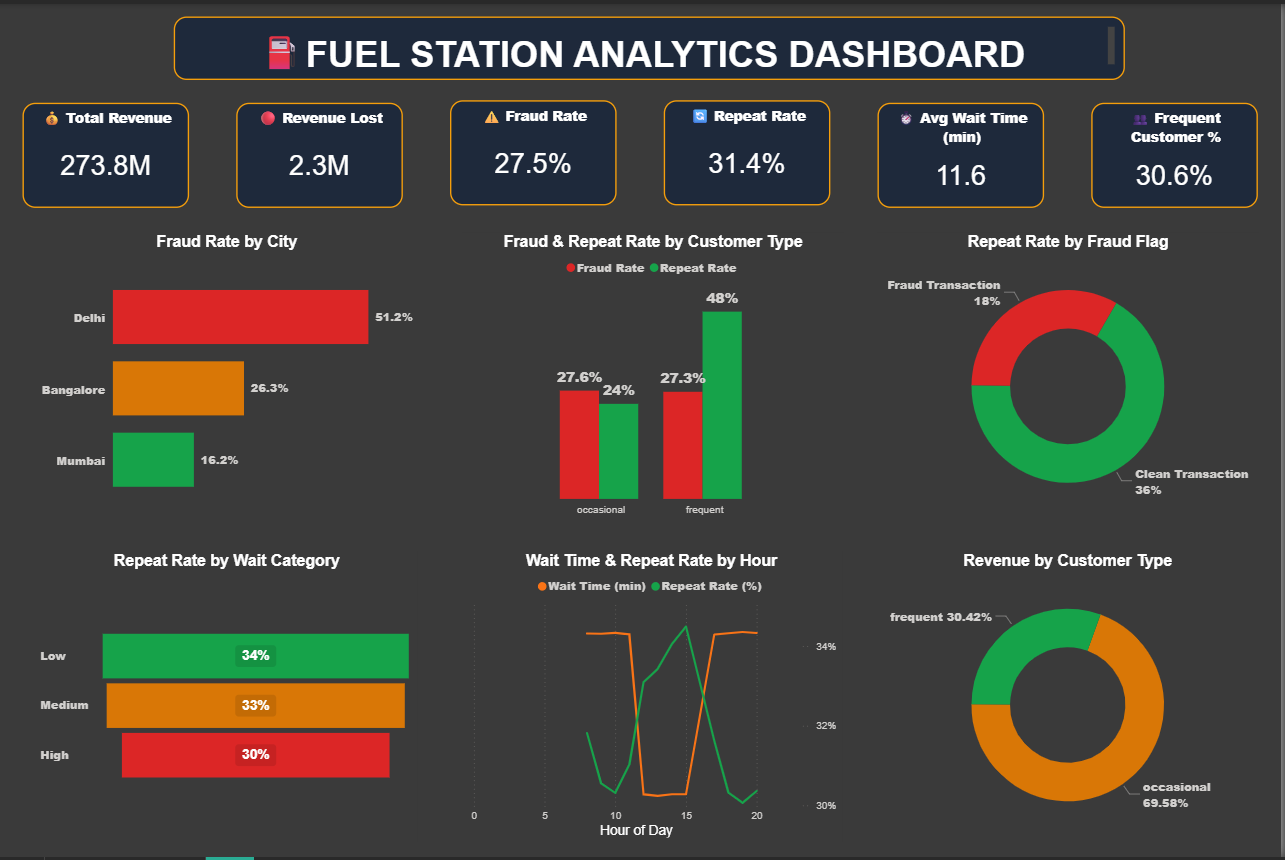

This screenshot's page, from the dashboard's own definition file:
{"tool":"powerbi","page":{"name":"Overview","canvas":[1500,1000],"ordinal":0},"visuals":[{"type":"textbox","box":[203,14.8,1114.4,74.1],"z":0},{"type":"card","title":"💰 Total Revenue","fields":{"Values":["transactions.Total Revenue"]},"box":[26.7,115.6,195,123],"z":1000},{"type":"card","title":"⚠️ Fraud Rate ","fields":{"Values":["transactions.Fraud Rate"]},"box":[527.6,113.2,195,123],"z":2000},{"type":"card","title":"🔄 Repeat Rate","fields":{"Values":["transactions.Repeat Rate"]},"box":[778,113.2,195,123],"z":3000},{"type":"card","title":"🔴 Revenue Lost","fields":{"Values":["transactions.Revenue Loss"]},"box":[277.1,115.6,195,123],"z":4000},{"type":"card","title":"⏱️ Avg Wait Time (min)","fields":{"Values":["Avg(transactions.wait_time_minutes)"]},"box":[1028.5,115.6,195,123],"z":5000},{"type":"barChart","title":"Fraud Rate by City","fields":{"Category":["stations_summary.city"],"Y":["transactions.Fraud Rate"]},"box":[42.5,268,446.7,339.8],"z":6000},{"type":"funnel","fields":{"Category":["transactions.Wait Category"],"Y":["transactions.Repeat Rate"]},"box":[42.5,641.5,446.7,339.8],"z":7000},{"type":"donutChart","title":"Repeat Rate by Fraud Flag","fields":{"Y":["transactions.Repeat Rate"],"Category":["transactions.Fraud Label"]},"box":[1028.1,268,446.7,339.8],"z":8000},{"type":"clusteredColumnChart","title":"Fraud & Repeat Rate by Customer Type","fields":{"Category":["transactions.customer_type"],"Y":["transactions.Fraud Rate","transactions.Repeat Rate"]},"box":[541.9,268,446.7,339.8],"z":9000},{"type":"lineChart","title":"Wait Time & Repeat Rate by Hour","fields":{"Y":["Avg(transactions.wait_time_minutes)"],"Y2":["transactions.Repeat Rate"],"Category":["transactions.hour"]},"box":[540.9,641.7,446,340],"z":10000},{"type":"card","title":"👥 Frequent Customer %","fields":{"Values":["customers.Frequent Customer %"]},"box":[1278.9,115.6,195,123],"z":11000},{"type":"donutChart","title":"Revenue by Customer Type","fields":{"Category":["customers.customer_type"],"Y":["Sum(transactions.amount_paid)"]},"box":[1028.5,641.7,446.1,339.4],"z":12000}]}

Visuals, with their boxes in screenshot pixels (x1, y1, x2, y2), scaled from the page's 1500x1000 canvas onto the 1285x860 screenshot:
textbox: (left=174, top=13, right=1129, bottom=76)
"💰 Total Revenue" card: (left=23, top=99, right=190, bottom=205)
"⚠️ Fraud Rate " card: (left=452, top=97, right=619, bottom=203)
"🔄 Repeat Rate" card: (left=666, top=97, right=834, bottom=203)
"🔴 Revenue Lost" card: (left=237, top=99, right=404, bottom=205)
"⏱️ Avg Wait Time (min)" card: (left=881, top=99, right=1048, bottom=205)
"Fraud Rate by City" barChart: (left=36, top=230, right=419, bottom=523)
funnel - transactions.Wait Category x transactions.Repeat Rate: (left=36, top=552, right=419, bottom=844)
"Repeat Rate by Fraud Flag" donutChart: (left=881, top=230, right=1263, bottom=523)
"Fraud & Repeat Rate by Customer Type" clusteredColumnChart: (left=464, top=230, right=847, bottom=523)
"Wait Time & Repeat Rate by Hour" lineChart: (left=463, top=552, right=845, bottom=844)
"👥 Frequent Customer %" card: (left=1096, top=99, right=1263, bottom=205)
"Revenue by Customer Type" donutChart: (left=881, top=552, right=1263, bottom=844)
